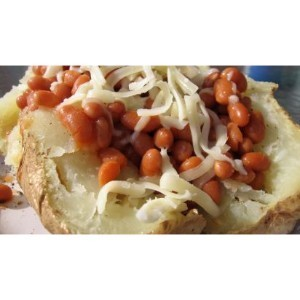cheese_brain food: (71, 106, 234, 210)
